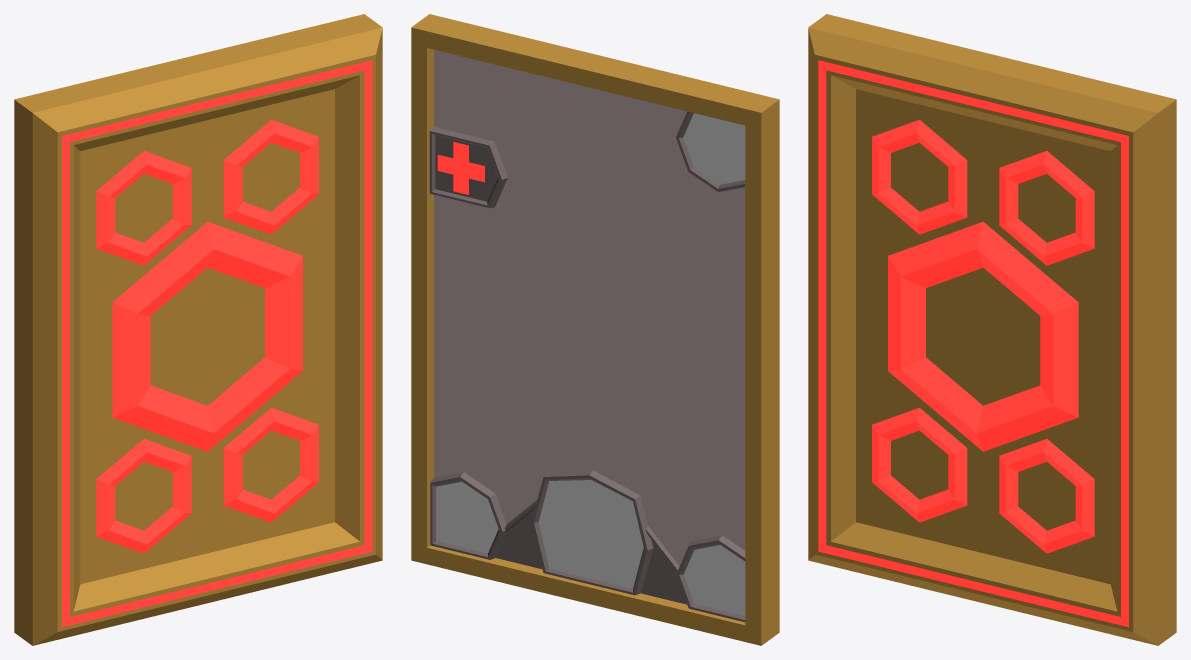
File: tcg-card-debugging.glb
The picture shows the model from 3 angles, left to right: view 1: azimuth 30°, elevation 25°; view 2: azimuth 150°, elevation 25°; view 3: azimuth 330°, elevation 25°; orthographic projection.
Visible parts, largest first — view 1: card-frame; view 2: card-background, card-frame, card--details; view 3: card-frame.
Boxes of the visible parts, left/top/right/bottom form: card-frame: left=14, top=14, right=382, bottom=645; card-background: left=434, top=49, right=745, bottom=565; card-frame: left=411, top=14, right=779, bottom=645; card--details: left=429, top=111, right=745, bottom=622; card-frame: left=808, top=14, right=1176, bottom=645.
Size of what is drawn, in the model's own units: 2.2 by 3.2 by 0.3045.
